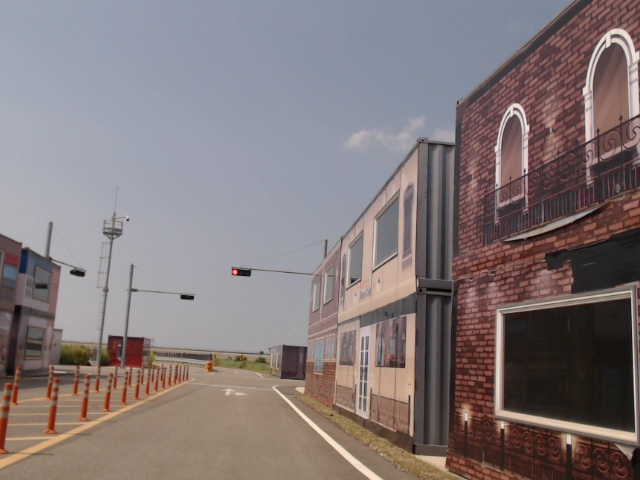red_3: (232, 269, 251, 277)
